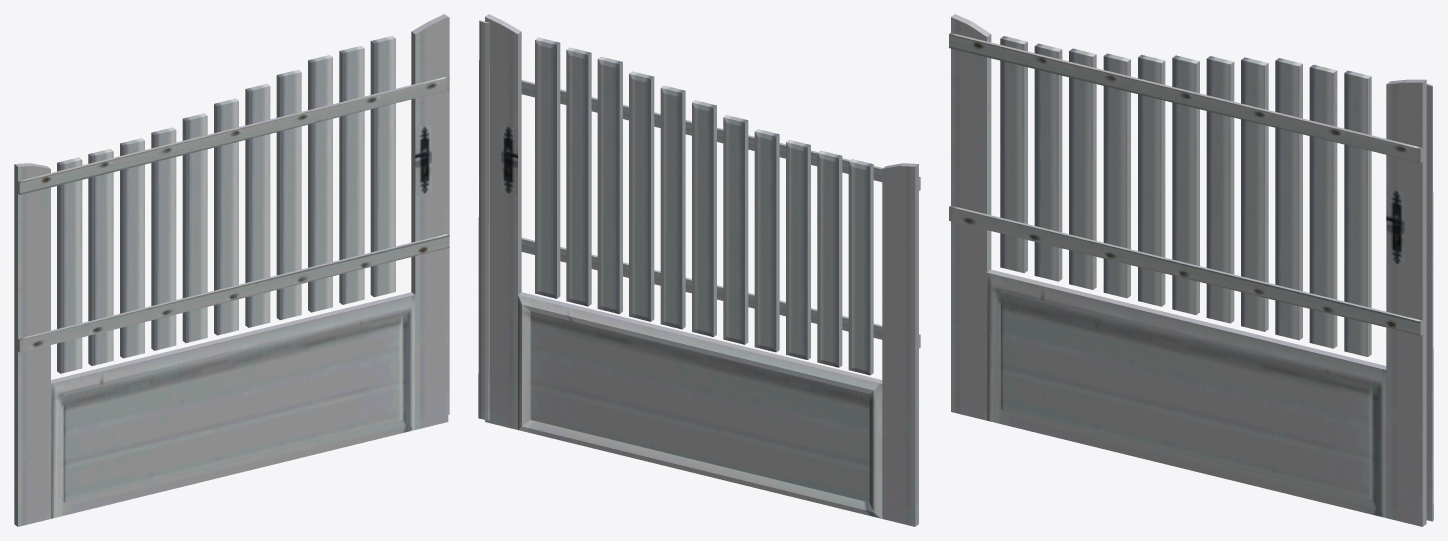
Rendered from plastic_gate_right.fbx.
3 renders of one model, left to right at view 1: azimuth 30°, elevation 25°; view 2: azimuth 150°, elevation 25°; view 3: azimuth 330°, elevation 25°, orthographic. The views are drawn at different scales.
Visible parts, largest first — view 1: plastic_gate_right; view 2: plastic_gate_right; view 3: plastic_gate_right.
Part boxes in pixels (x1,y1,x2,y2): plastic_gate_right: (14,14,449,526); plastic_gate_right: (478,14,920,526); plastic_gate_right: (949,14,1433,526).
Bounding box in the file's own units: 202 × 180 × 6.05.
Materials: 1 (1 with a texture image).
